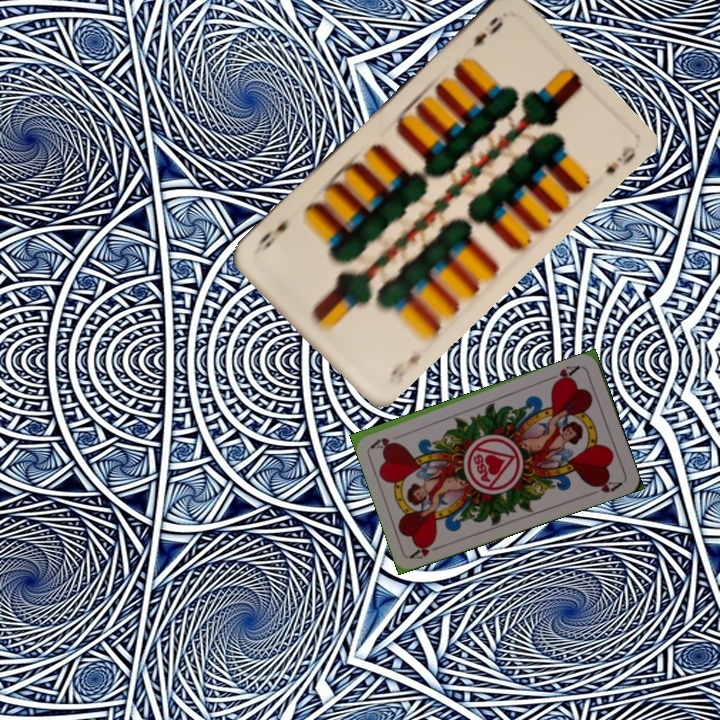E9: (468, 12, 506, 50), (384, 350, 424, 386)
HA: (545, 361, 584, 388), (407, 536, 447, 562)
